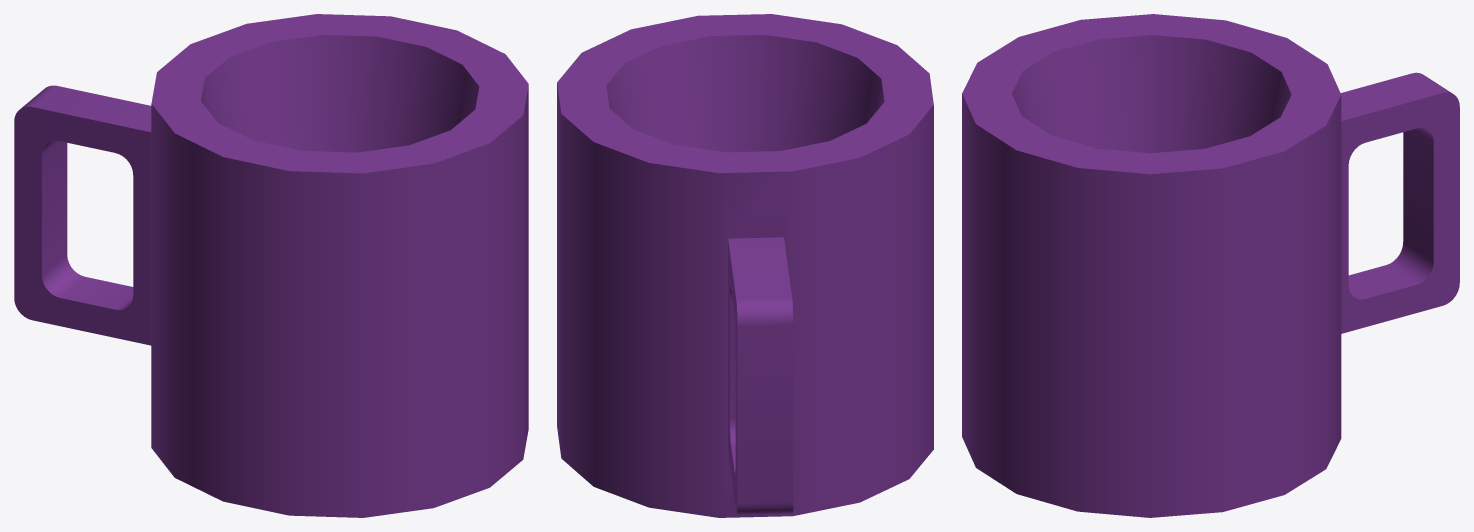
The model's file is Glass-1.fbx.
3 views of the same model, side by side, from view 1: azimuth 30°, elevation 25°; view 2: azimuth 150°, elevation 25°; view 3: azimuth 270°, elevation 25° (orthographic).
Parts seen in each view (by area): view 1: Glass-1; view 2: Glass-1; view 3: Glass-1.
Part boxes in pixels (left/top/right/bottom): Glass-1: left=14, top=14, right=528, bottom=517; Glass-1: left=557, top=14, right=933, bottom=517; Glass-1: left=962, top=14, right=1459, bottom=517.
Bounding box in the file's own units: 0.1212 × 0.1135 × 0.149.
